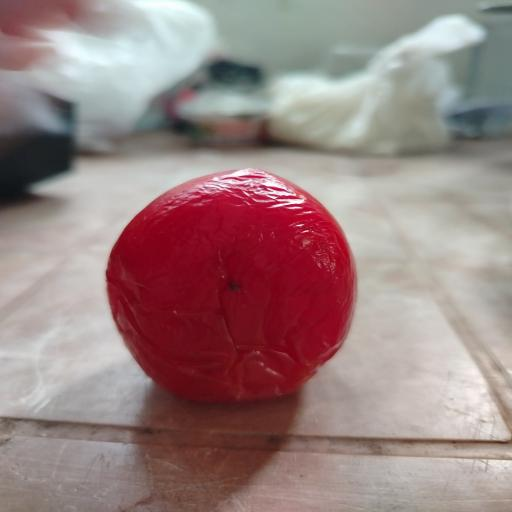spoiled: (106, 169, 356, 401)
